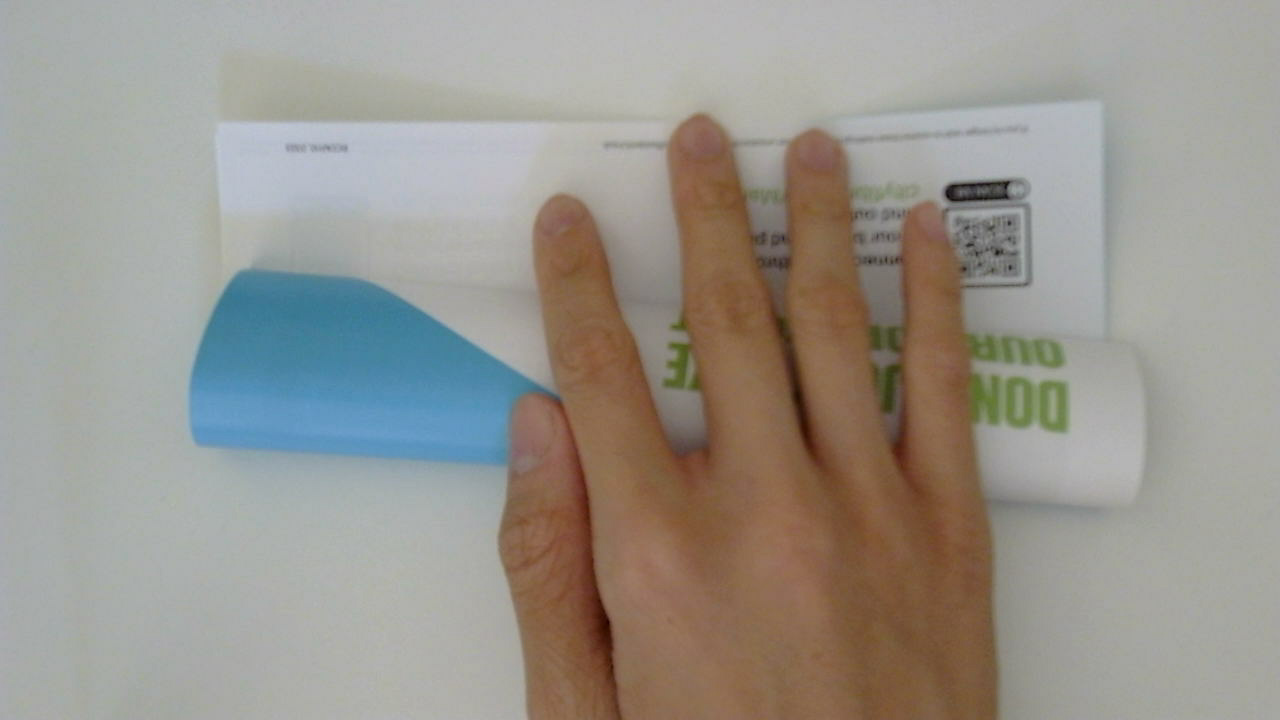Mixed Paper: (207, 52, 1148, 696)
